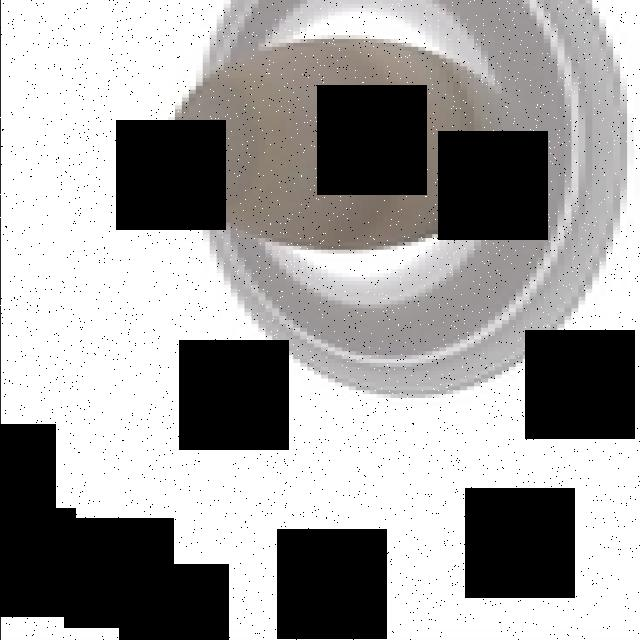Saturn: (160, 0, 633, 402)
